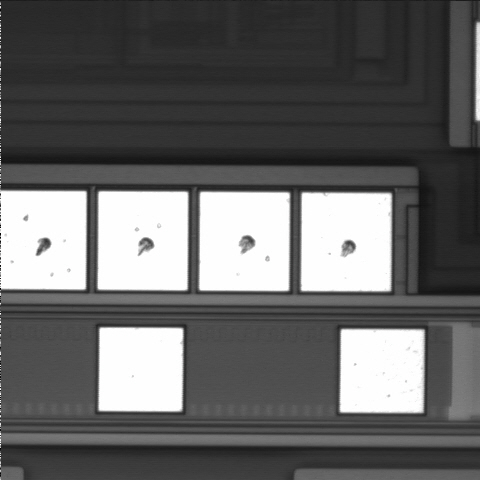pad: (199, 192, 290, 291), (98, 191, 188, 290), (301, 193, 391, 291), (340, 329, 424, 413), (99, 328, 183, 411)
